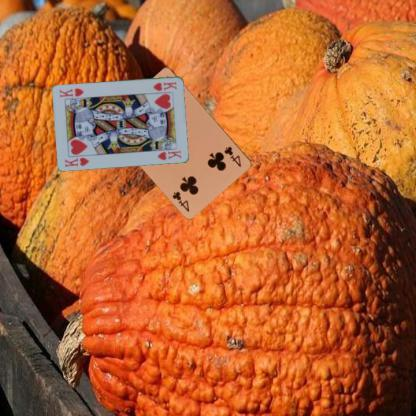4c: (222, 144, 243, 168)
Kh: (62, 154, 91, 168), (150, 78, 178, 92)
